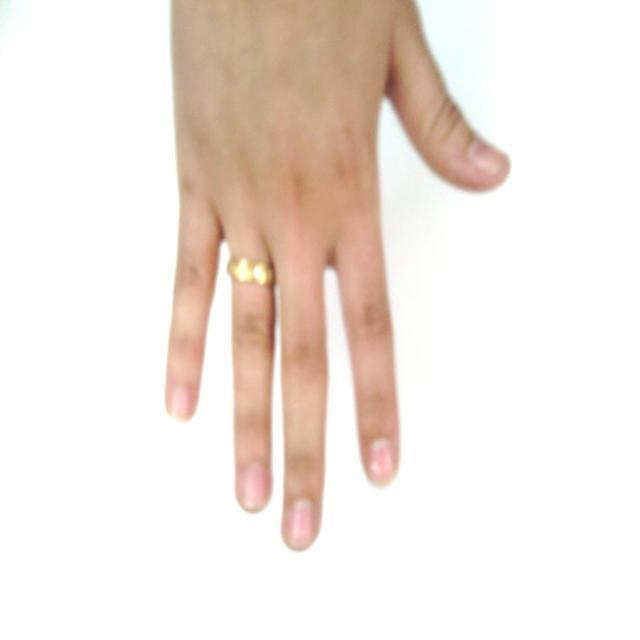Fingernail: (287, 500, 314, 548), (470, 140, 507, 175), (243, 465, 267, 511), (370, 441, 394, 484), (171, 387, 190, 422)
